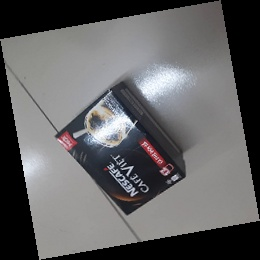CF Viet: (54, 81, 187, 218)
